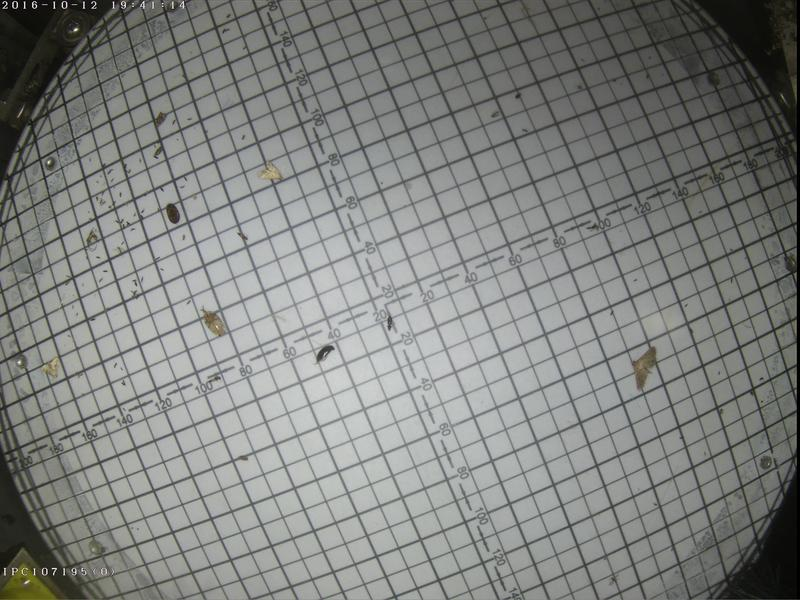Rice Leaf Roller: (256, 156, 285, 181)
